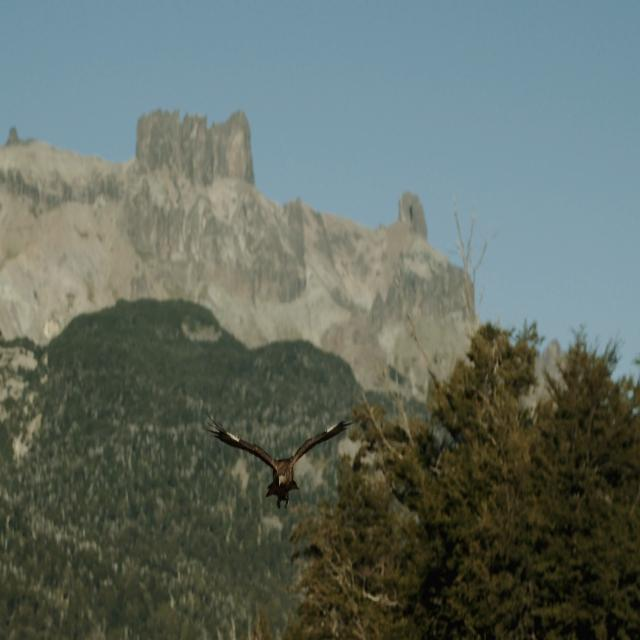bird: (206, 405, 348, 514)
